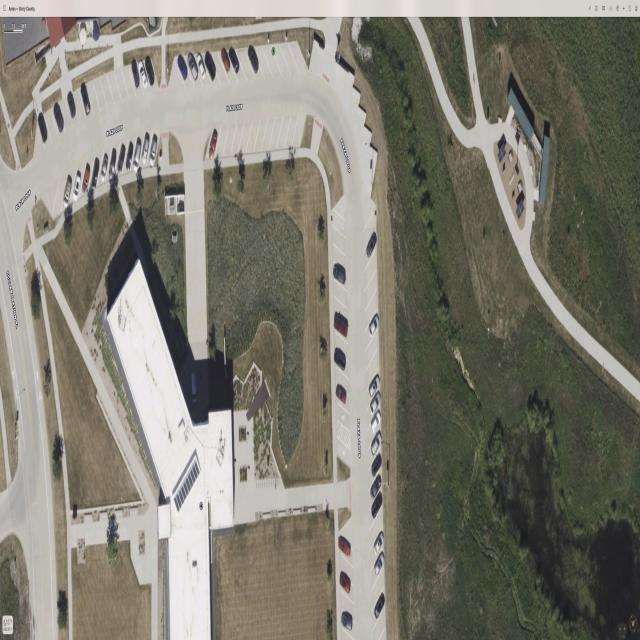Empty: (271, 45, 292, 79), (236, 48, 256, 82), (279, 44, 300, 76), (253, 47, 273, 80), (262, 45, 282, 78), (52, 172, 67, 215), (289, 42, 308, 75), (209, 53, 229, 84), (363, 249, 377, 292), (370, 506, 383, 551), (366, 348, 379, 392), (371, 568, 384, 611), (364, 270, 377, 313), (364, 289, 377, 331), (363, 211, 376, 253), (366, 330, 379, 372), (340, 554, 356, 588), (276, 115, 291, 151), (230, 122, 245, 156), (245, 120, 260, 154), (372, 604, 386, 640), (336, 436, 351, 469), (340, 590, 355, 623), (44, 110, 59, 143), (122, 67, 137, 100), (284, 114, 298, 149), (58, 101, 73, 133), (107, 71, 122, 103), (114, 69, 129, 101), (238, 121, 252, 155), (253, 119, 267, 153), (261, 118, 275, 152), (269, 117, 283, 151), (214, 125, 228, 159), (292, 115, 306, 149), (331, 225, 346, 256), (334, 331, 349, 362), (333, 296, 349, 325), (223, 123, 237, 156), (86, 81, 100, 114), (93, 78, 107, 111), (72, 90, 86, 122), (333, 279, 347, 309), (332, 208, 346, 237), (100, 76, 114, 105), (335, 368, 349, 396), (337, 402, 350, 432), (333, 243, 346, 273)
Parked: (60, 168, 78, 212), (244, 47, 265, 83), (78, 156, 95, 199), (175, 56, 195, 91), (227, 49, 248, 82), (183, 54, 203, 88), (218, 50, 238, 84), (70, 163, 86, 205), (193, 52, 212, 87), (88, 151, 104, 192), (370, 524, 383, 572), (366, 367, 380, 411), (367, 430, 382, 471), (201, 53, 220, 85), (144, 56, 160, 94), (363, 231, 377, 274), (372, 586, 385, 632), (105, 143, 120, 182), (122, 138, 137, 177), (340, 568, 356, 604), (368, 447, 381, 491), (97, 148, 112, 186), (129, 59, 144, 97), (65, 90, 79, 130), (369, 486, 382, 529), (367, 407, 380, 450), (367, 388, 380, 431), (365, 309, 378, 352), (205, 126, 221, 160), (371, 547, 383, 592), (136, 61, 151, 97), (115, 141, 129, 179), (38, 112, 52, 149), (51, 102, 65, 139), (130, 135, 144, 172), (369, 466, 381, 509), (79, 82, 93, 117), (339, 534, 353, 568), (334, 315, 349, 345), (146, 135, 160, 167), (333, 261, 347, 292), (341, 610, 355, 640), (335, 349, 349, 379), (140, 134, 152, 169), (336, 385, 350, 414)
